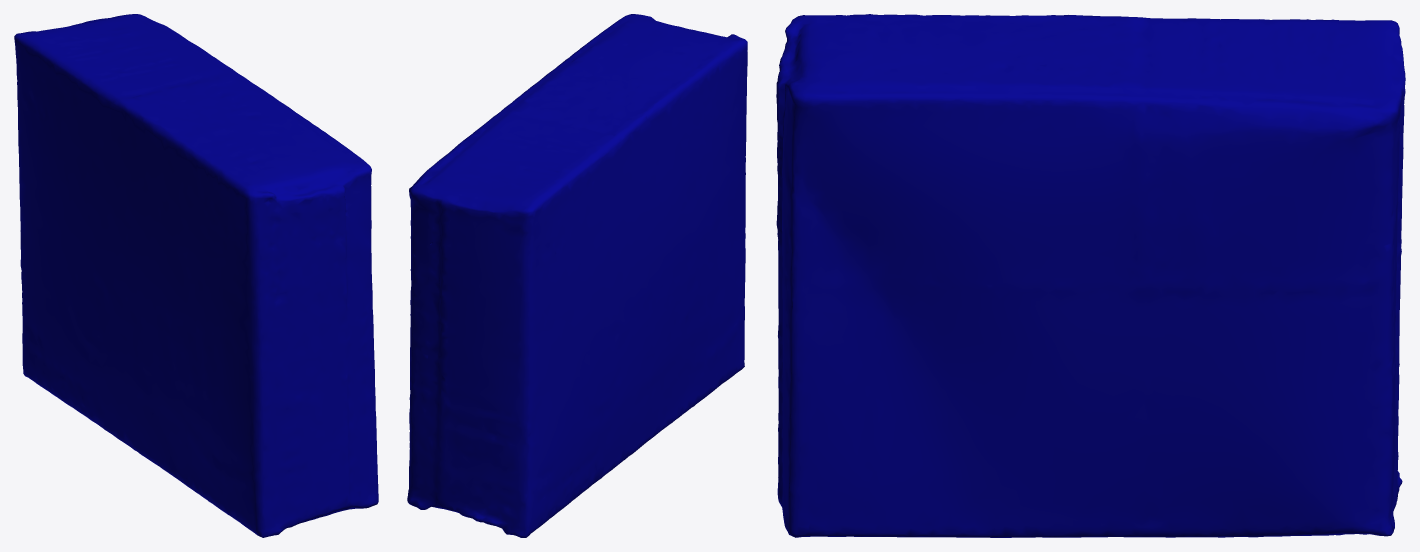
3 renders of one model, left to right at view 1: azimuth 30°, elevation 25°; view 2: azimuth 150°, elevation 25°; view 3: azimuth 270°, elevation 25°, orthographic. The views are drawn at different scales.
Size of the model in its own units: 0.0383 by 0.0904 by 0.1128.
